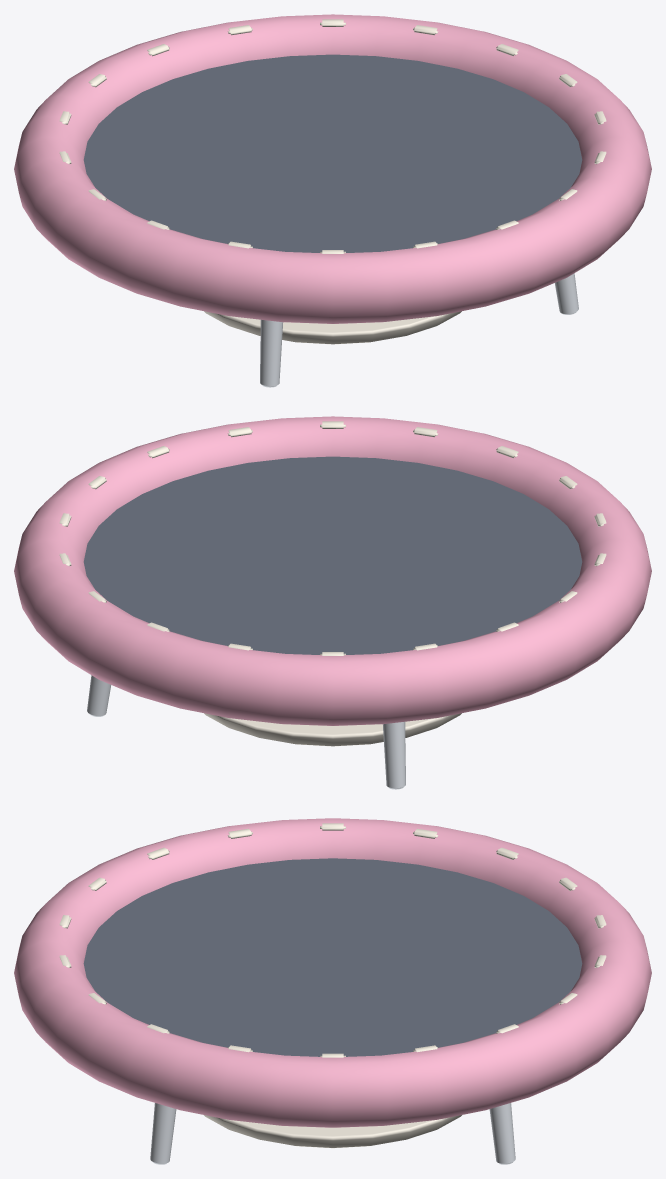
Rendered from trampoline_mini_pastel.glb.
The picture shows the model from 3 angles, top to bottom: view 1: azimuth 30°, elevation 25°; view 2: azimuth 150°, elevation 25°; view 3: azimuth 270°, elevation 25°; orthographic projection.
Parts seen in each view (by area): view 1: PinkRim, BlackNet, BasePlate, Leg_2, Leg_3; view 2: PinkRim, BlackNet, BasePlate, Leg_1, Leg_0; view 3: PinkRim, BlackNet, BasePlate, Leg_0, Leg_3.
Boxes of the visible parts, x1,y1,x2,y2 form: PinkRim: [14, 14, 651, 323]; BlackNet: [83, 54, 582, 252]; BasePlate: [204, 311, 461, 344]; Leg_2: [260, 319, 283, 387]; Leg_3: [554, 273, 578, 314]; PinkRim: [14, 416, 651, 725]; BlackNet: [83, 456, 582, 654]; BasePlate: [204, 713, 461, 746]; Leg_1: [382, 721, 405, 789]; Leg_0: [87, 675, 111, 716]; PinkRim: [14, 818, 651, 1127]; BlackNet: [83, 858, 582, 1056]; BasePlate: [204, 1115, 461, 1148]; Leg_0: [489, 1103, 515, 1164]; Leg_3: [150, 1103, 176, 1164].
Bounding box in the file's own units: 2.48 × 0.6443 × 2.48.
